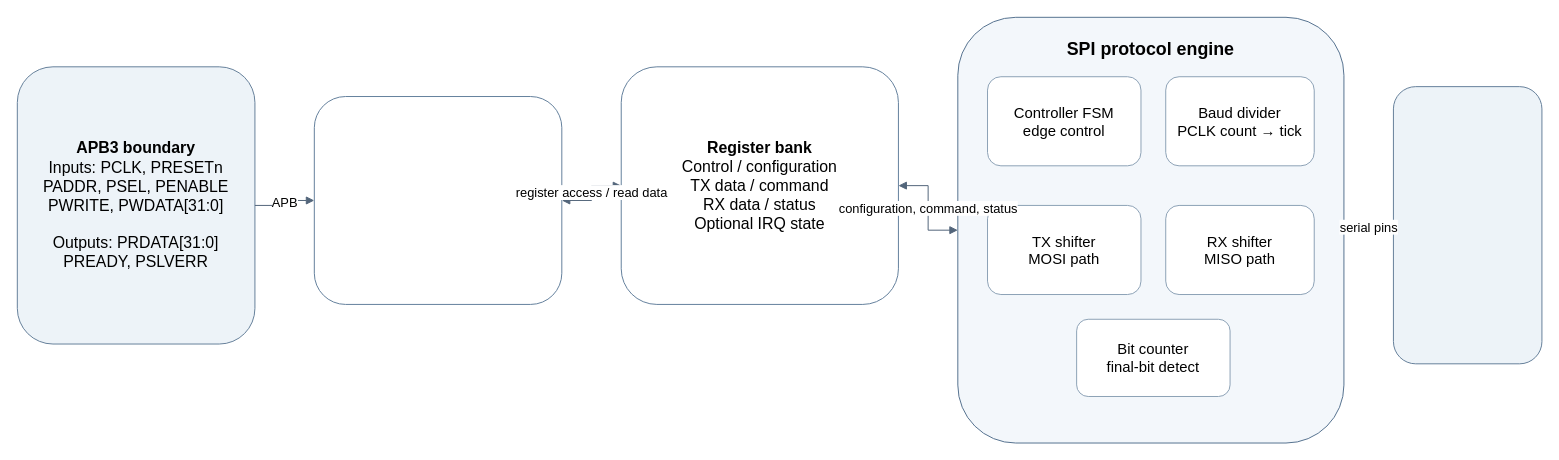
The diagram is 1559 pixels wide and 460 high, and some of its shapes have lost their labels. Here are the shapes that lost their labels. From the top down, the centre of each, then its label:
At pixel 437 200: "APB slave Setup/access control Address and write decode Read response mux".
At pixel 1467 225: "SPI pins SCLK (output) MOSI (output) MISO (input) CS_n[NUM_CS-1:0] CS active low".
